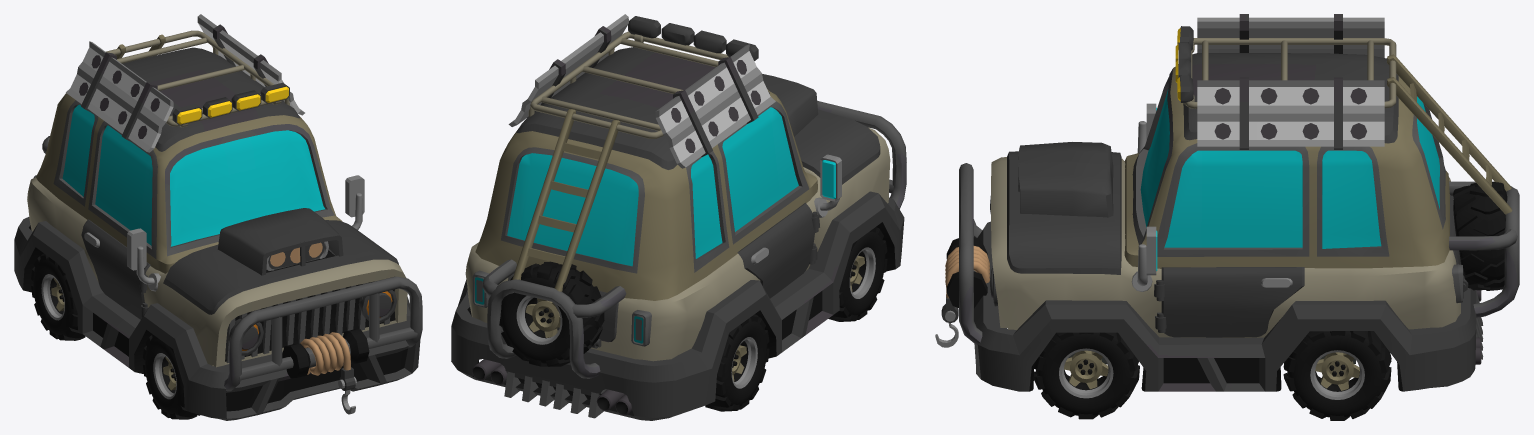
Rendered from VEH9-C.fbx.
The picture shows the model from 3 angles, left to right: view 1: azimuth 30°, elevation 25°; view 2: azimuth 150°, elevation 25°; view 3: azimuth 270°, elevation 25°; orthographic projection. The views are drawn at different scales.
Parts seen in each view (by area): view 1: VEH9_C, V9C_Wheel_BR, V9C_Wheel_FR, V9C_BodyParts; view 2: VEH9_C, V9C_BodyParts, V9C_Wheel_BR, V9C_Wheel_FR; view 3: VEH9_C, V9C_Wheel_BL, V9C_Wheel_FL, V9C_BodyParts.
Part boxes in pixels (x1=…): VEH9_C: x1=14, y1=14, x2=422, y2=420; V9C_Wheel_BR: x1=31, y1=253, x2=85, y2=340; V9C_Wheel_FR: x1=142, y1=334, x2=200, y2=419; V9C_BodyParts: x1=300, y1=332, x2=356, y2=414; VEH9_C: x1=451, y1=14, x2=906, y2=420; V9C_BodyParts: x1=499, y1=261, x2=604, y2=366; V9C_Wheel_BR: x1=705, y1=314, x2=769, y2=411; V9C_Wheel_FR: x1=828, y1=227, x2=887, y2=321; VEH9_C: x1=946, y1=14, x2=1519, y2=391; V9C_Wheel_BL: x1=1283, y1=331, x2=1391, y2=420; V9C_Wheel_FL: x1=1033, y1=332, x2=1139, y2=419; V9C_BodyParts: x1=935, y1=181, x2=1507, y2=347.
Bounding box in the file's own units: 256 × 286 × 480.
Materials: 1 (1 with a texture image).
